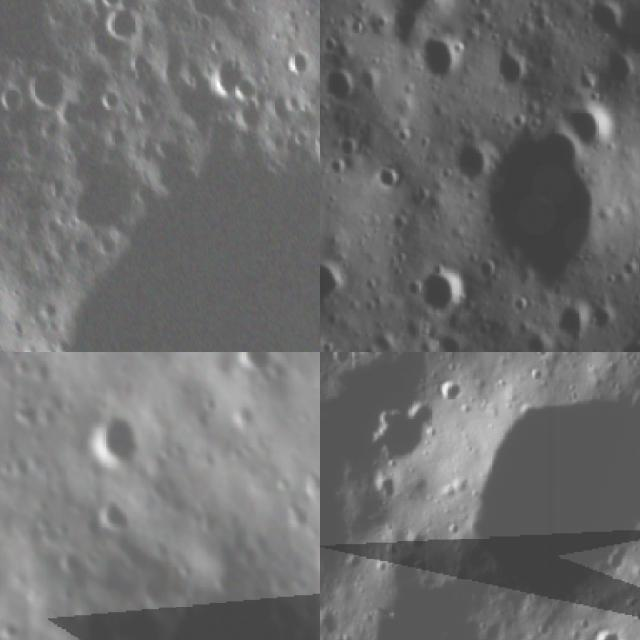crater: (461, 391, 640, 599), (0, 553, 320, 640), (488, 123, 640, 294), (82, 404, 150, 474), (372, 401, 433, 466), (417, 260, 473, 322), (409, 28, 467, 87), (557, 94, 613, 152), (438, 139, 496, 193), (490, 45, 538, 96), (204, 56, 255, 99), (24, 63, 73, 107), (320, 63, 364, 106), (91, 4, 142, 41), (364, 158, 407, 198), (320, 259, 352, 312), (97, 493, 135, 537), (230, 396, 263, 439), (226, 352, 280, 376), (435, 380, 462, 408), (56, 549, 82, 578), (1, 613, 27, 640), (286, 48, 311, 76), (12, 352, 32, 383), (0, 81, 21, 107), (273, 472, 292, 498), (328, 352, 355, 370), (593, 627, 627, 640), (360, 352, 383, 361)
